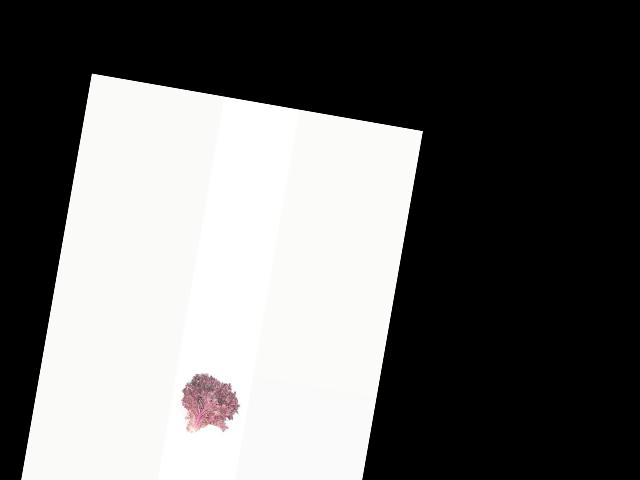lettuce: (176, 367, 246, 446)
